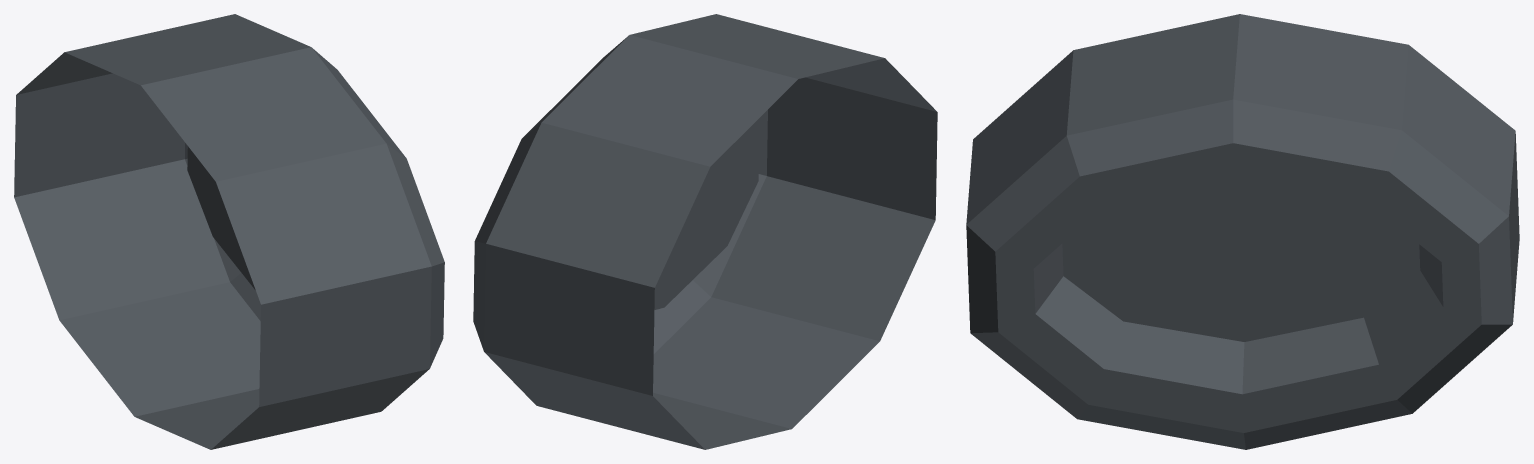
Rendered from Personal_Vehicle_01_Detail_2_Blue.fbx.
3 views of the same model, side by side, from view 1: azimuth 30°, elevation 25°; view 2: azimuth 150°, elevation 25°; view 3: azimuth 270°, elevation 25° (orthographic). The views are drawn at different scales.
Parts seen in each view (by area): view 1: Personal_Vehicle_01_Detail_2_Blue; view 2: Personal_Vehicle_01_Detail_2_Blue; view 3: Personal_Vehicle_01_Detail_2_Blue.
Part boxes in pixels (box(x1,y1,x2,y2)): Personal_Vehicle_01_Detail_2_Blue: box(14, 14, 444, 449); Personal_Vehicle_01_Detail_2_Blue: box(473, 14, 937, 449); Personal_Vehicle_01_Detail_2_Blue: box(966, 14, 1519, 449).
Size of the model in its own units: 6.36 by 9.83 by 14.05.
Materials: 1 (1 with a texture image).
